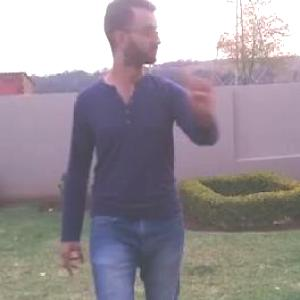takeoff-hand: (180, 48, 222, 111)
